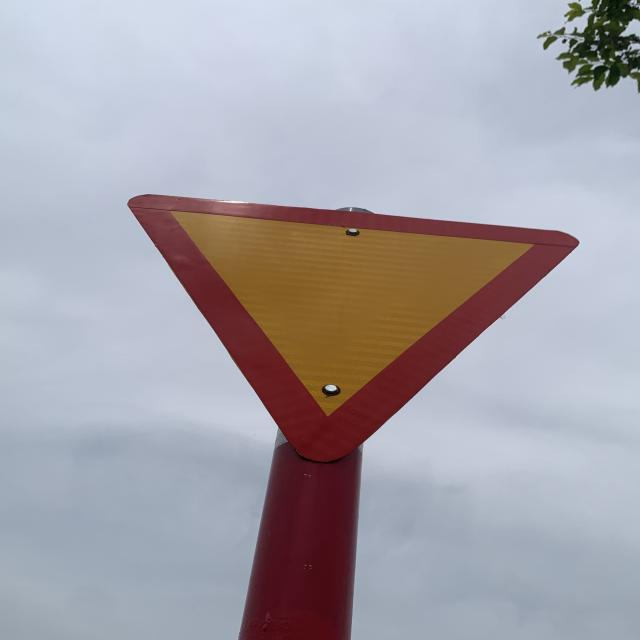Gioi_Han_Toc_Do_25: (127, 191, 580, 456)
